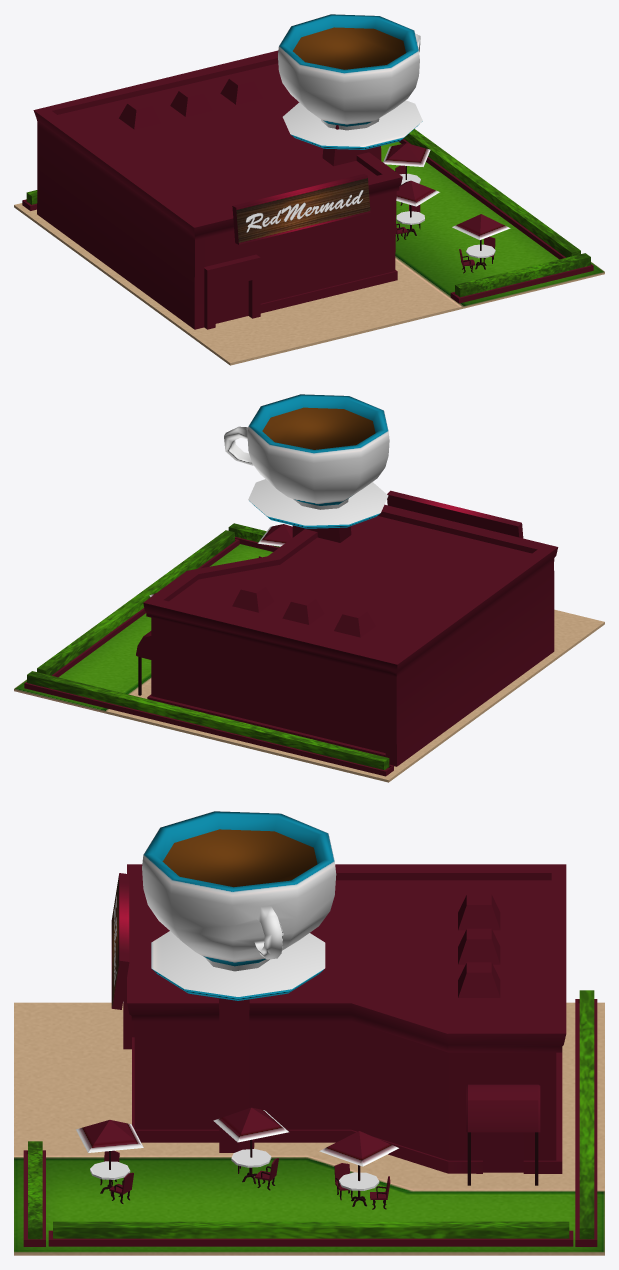
Rendered from Tx_Exterior_Business_CafeT3.fbx.
3 renders of one model, top to bottom at view 1: azimuth 30°, elevation 25°; view 2: azimuth 150°, elevation 25°; view 3: azimuth 270°, elevation 25°, orthographic. The views are drawn at different scales.
Parts seen in each view (by area): view 1: Building1, Floor, icon, SIgnature, grass2, grass, chairs_table, chairs_table1, chairs_table2; view 2: Building1, icon, Floor, grass1, grass2, SIgnature, grass, chairs_table; view 3: Building1, Floor, icon, grass2, grass1, chairs_table2, chairs_table, chairs_table1, grass, SIgnature.
Boxes of the visible parts, left/top/right/bottom form: Building1: left=33, top=50, right=402, bottom=329; Floor: left=14, top=141, right=604, bottom=365; icon: left=278, top=14, right=422, bottom=149; SIgnature: left=232, top=174, right=370, bottom=244; grass2: left=399, top=129, right=580, bottom=259; grass: left=450, top=253, right=593, bottom=303; chairs_table: left=452, top=214, right=510, bottom=273; chairs_table1: left=395, top=180, right=439, bottom=241; chairs_table2: left=383, top=143, right=430, bottom=205; Building1: left=136, top=504, right=558, bottom=766; icon: left=224, top=394, right=389, bottom=528; Floor: left=14, top=544, right=604, bottom=782; grass1: left=24, top=671, right=393, bottom=776; grass2: left=37, top=530, right=239, bottom=677; SIgnature: left=387, top=490, right=523, bottom=538; grass: left=228, top=523, right=280, bottom=551; chairs_table: left=258, top=524, right=292, bottom=557; Building1: left=123, top=864, right=566, bottom=1185; Floor: left=14, top=1002, right=604, bottom=1255; icon: left=142, top=811, right=336, bottom=1000; grass2: left=48, top=1221, right=573, bottom=1246; grass1: left=575, top=990, right=597, bottom=1246; chairs_table2: left=319, top=1131, right=398, bottom=1209; chairs_table: left=76, top=1120, right=143, bottom=1203; chairs_table1: left=213, top=1107, right=288, bottom=1190; grass: left=23, top=1141, right=45, bottom=1246; SIgnature: left=111, top=873, right=129, bottom=1009.
Bounding box in the file's own units: 17.16 × 9.3 × 17.16.
1 material, 1 textured.
